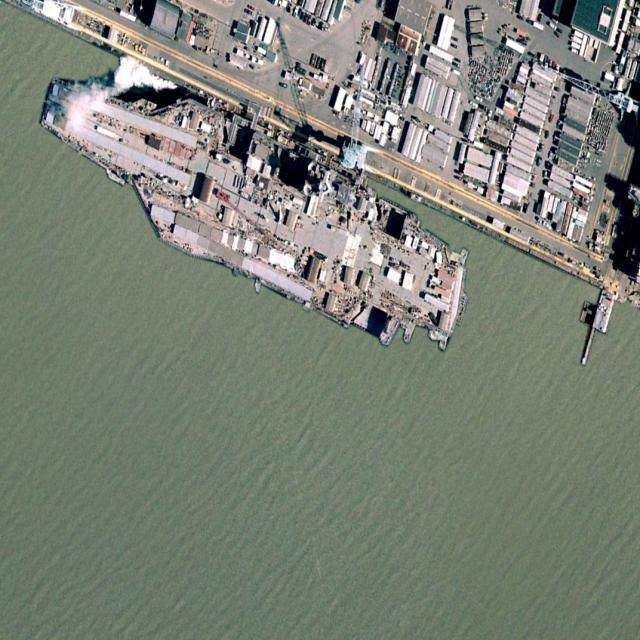Aircraft Carrier: (26, 37, 483, 382)
